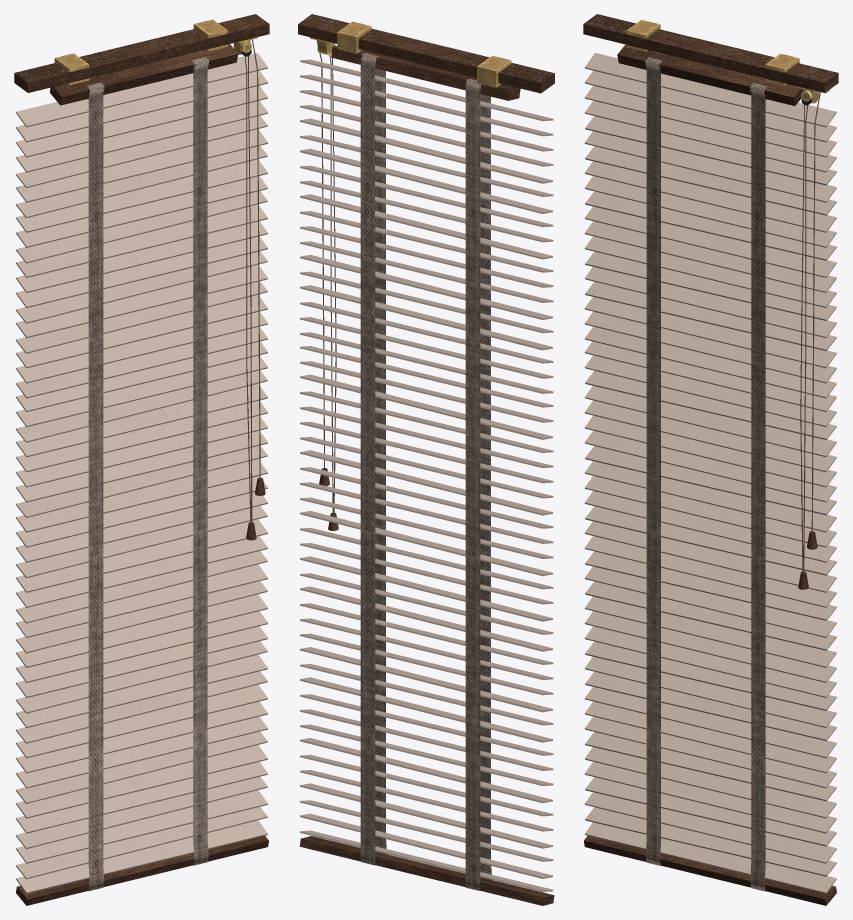
File: Jalousie_B.fbx
3 views of the same model, side by side, from view 1: azimuth 30°, elevation 25°; view 2: azimuth 150°, elevation 25°; view 3: azimuth 330°, elevation 25° (orthographic).
Visible parts, largest first — view 1: Jalousie_B; view 2: Jalousie_B; view 3: Jalousie_B.
Boxes of the visible parts, left/top/right/bottom form: Jalousie_B: left=14, top=14, right=269, bottom=905; Jalousie_B: left=298, top=14, right=554, bottom=905; Jalousie_B: left=583, top=14, right=838, bottom=905.
Size of the model in its own units: 50.38 by 165 by 7.27.
